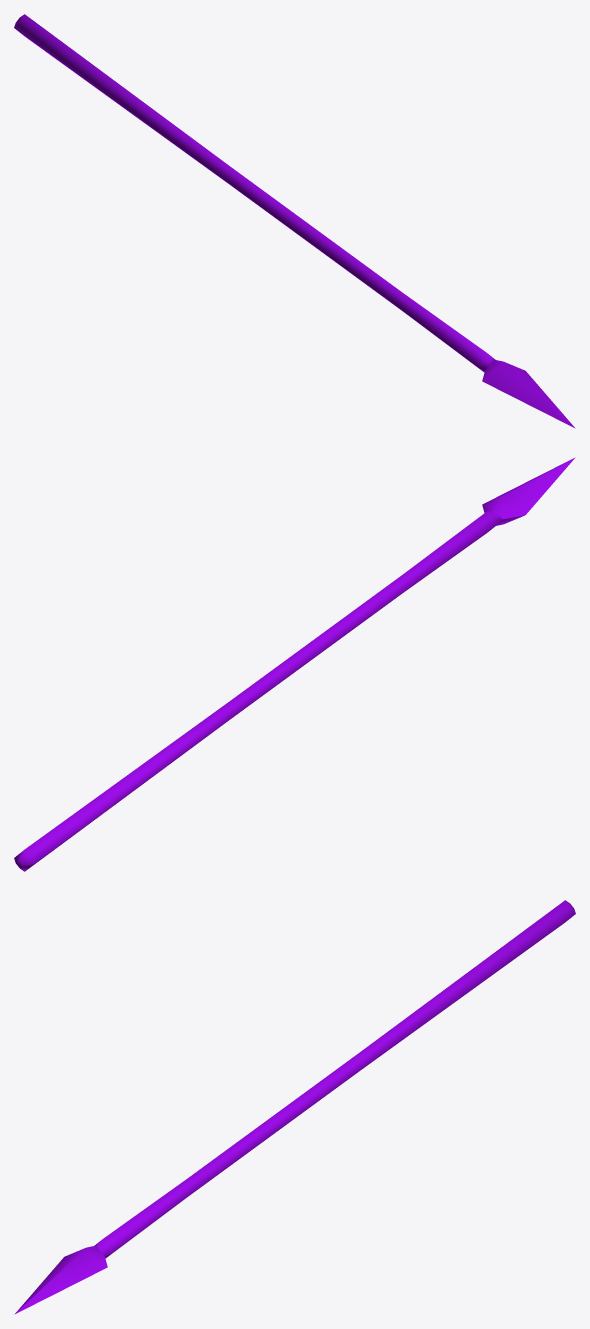
File: spear_debug.glb
3 views of the same model, one above another, from view 1: azimuth 30°, elevation 25°; view 2: azimuth 150°, elevation 25°; view 3: azimuth 330°, elevation 25° (orthographic).
Parts seen in each view (by area): view 1: prop_spear.001; view 2: prop_spear.001; view 3: prop_spear.001.
Part boxes in pixels (x1,y1,x2,y2): prop_spear.001: (14, 14, 575, 428); prop_spear.001: (14, 457, 575, 871); prop_spear.001: (14, 900, 575, 1314).
Bounding box in the file's own units: 0.0969 × 0.0613 × 2.14.
